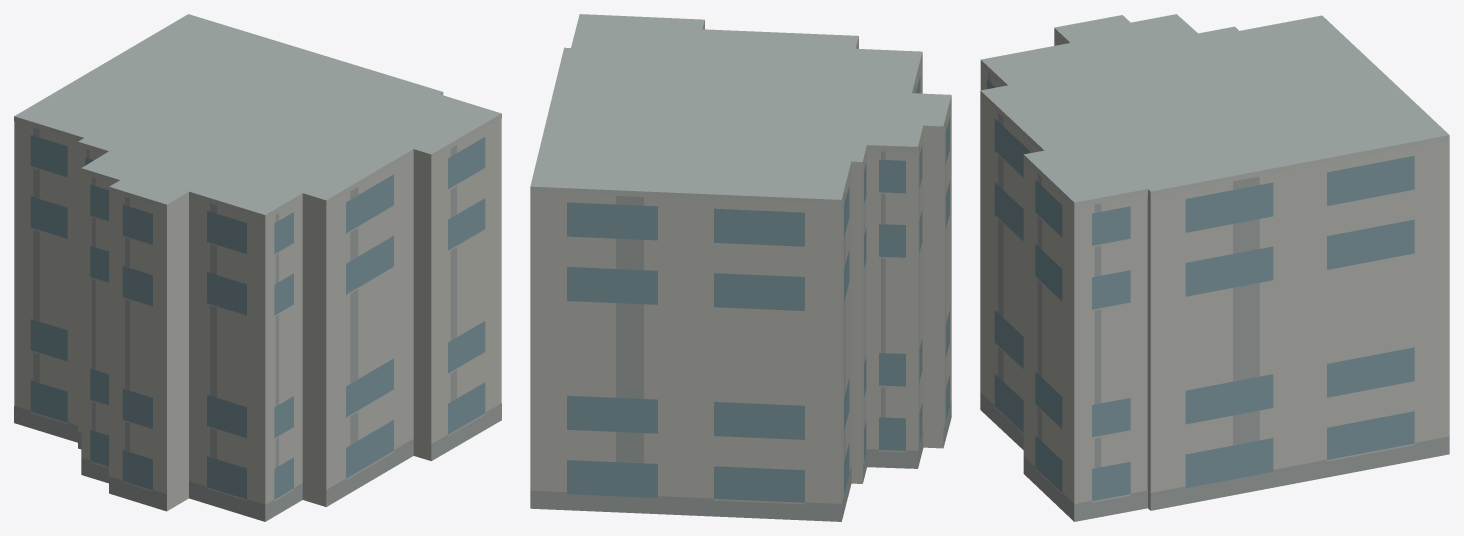
Rendered from survey-upis-32766641.glb.
The picture shows the model from 3 angles, left to right: view 1: azimuth 30°, elevation 25°; view 2: azimuth 150°, elevation 25°; view 3: azimuth 270°, elevation 25°; orthographic projection. The views are drawn at different scales.
Visible parts, largest first — view 1: survey-upis-32766641.tmp; view 2: survey-upis-32766641.tmp; view 3: survey-upis-32766641.tmp.
Part boxes in pixels (<box>): survey-upis-32766641.tmp: <box>14,14,501,521</box>; survey-upis-32766641.tmp: <box>530,14,951,521</box>; survey-upis-32766641.tmp: <box>980,14,1449,521</box>.
Size of the model in its own units: 17.74 by 14 by 18.66.
